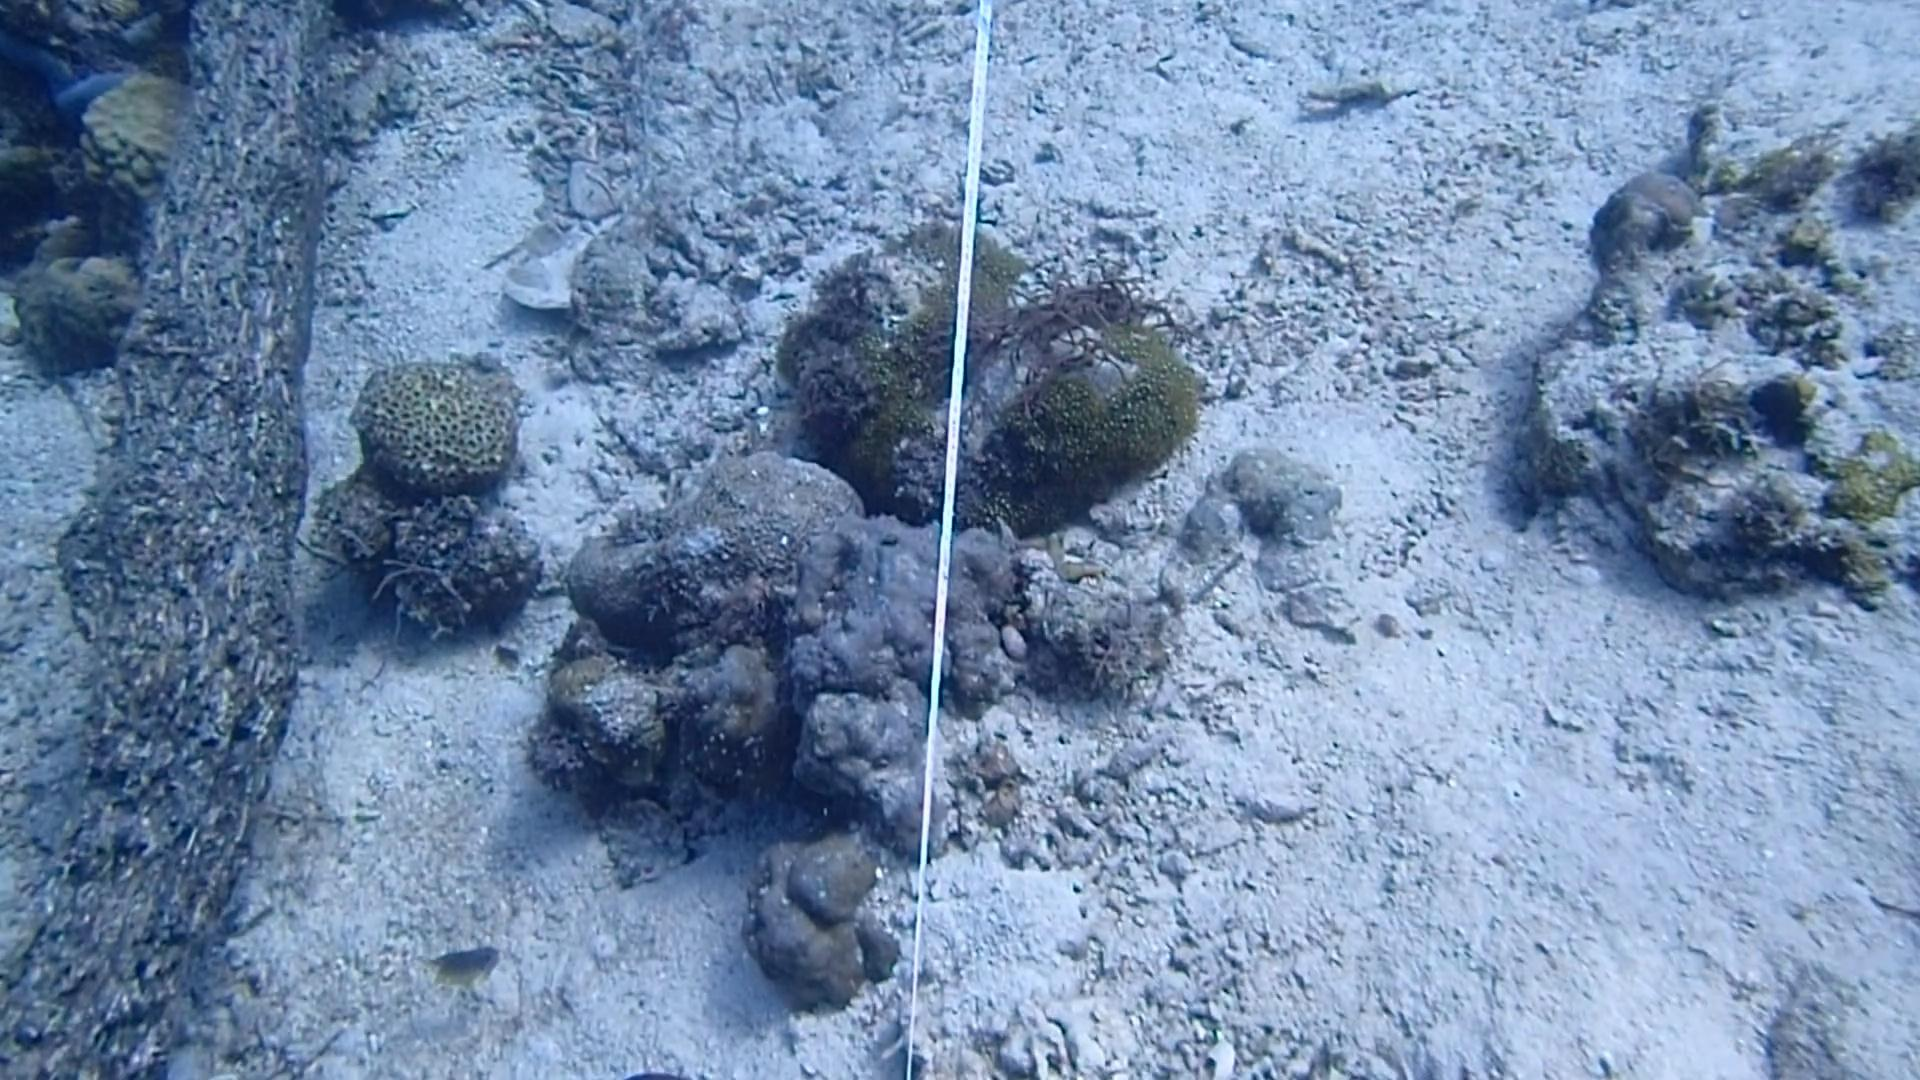Light Fish: (411, 930, 509, 1007)
